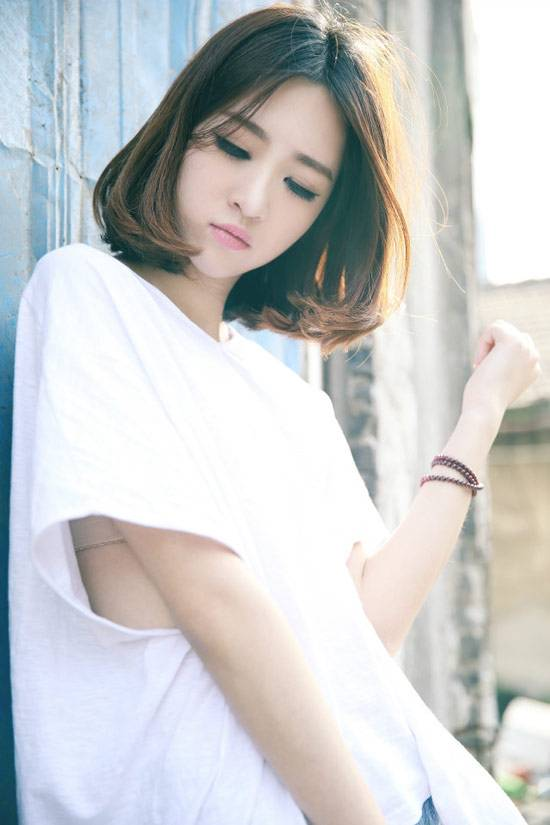person: (93, 28, 481, 774)
